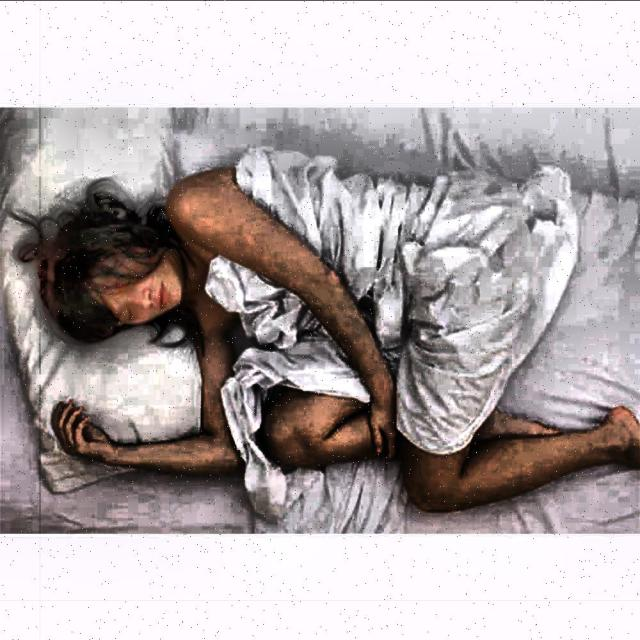Not_Supine: (18, 150, 640, 531)
